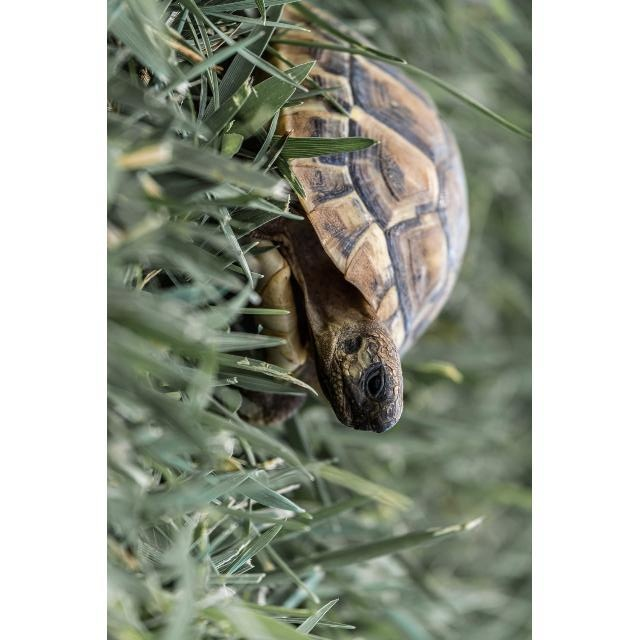turtle: (231, 3, 473, 432)
